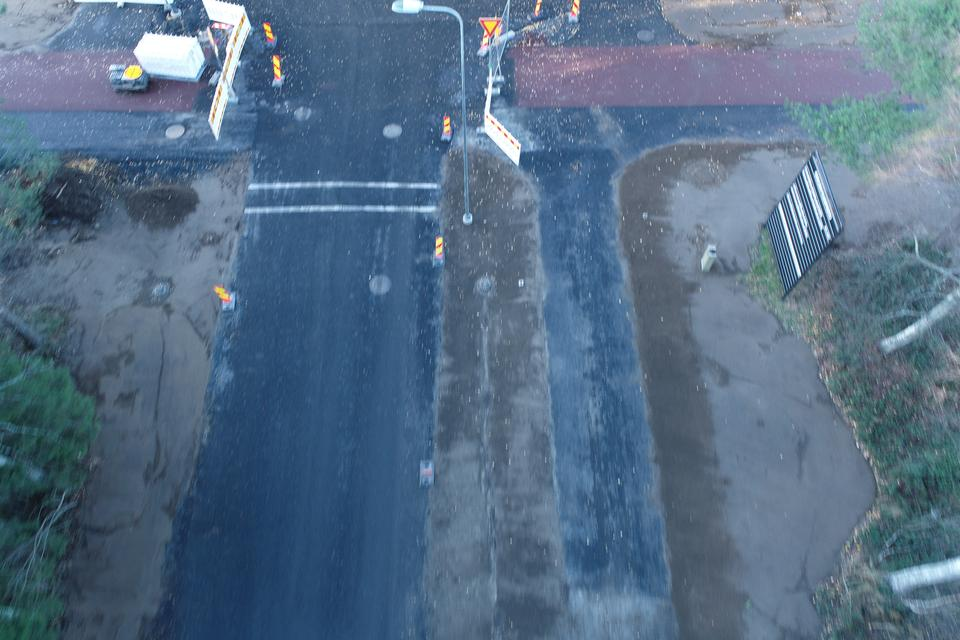intersection: (216, 2, 690, 196)
